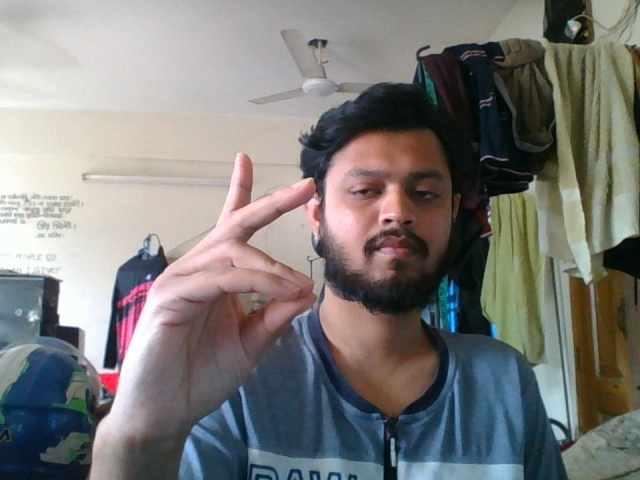na: (120, 146, 336, 440)
